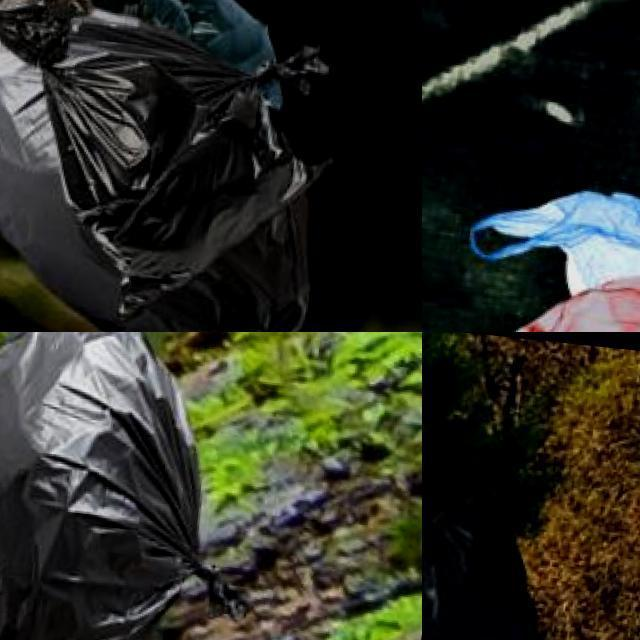waste: (0, 0, 346, 332), (0, 32, 337, 332), (0, 332, 272, 640), (422, 459, 601, 640), (466, 161, 640, 332)
